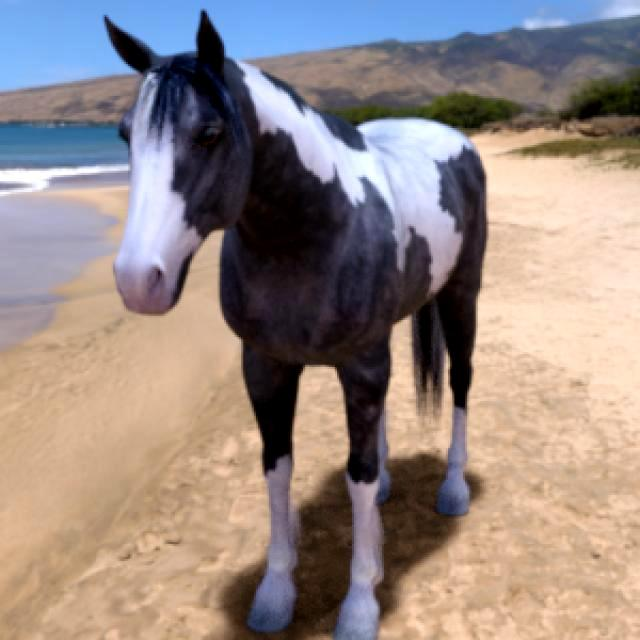horse: (106, 12, 486, 639)
